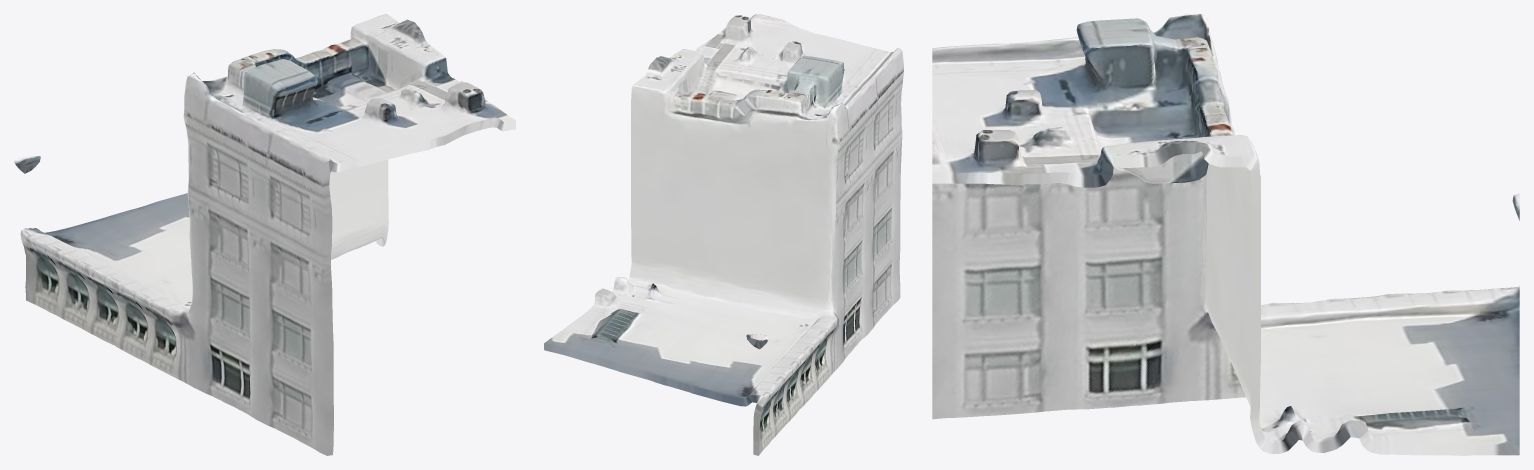
File: z20-167758-405241-h1-yup-uvflip-v3-world.glb
3 renders of one model, left to right at view 1: azimuth 30°, elevation 25°; view 2: azimuth 150°, elevation 25°; view 3: azimuth 270°, elevation 25°, orthographic. The views are drawn at different scales.
Bounding box in the file's own units: 19.92 × 23.12 × 30.32.
Materials: 1 (1 with a texture image).
